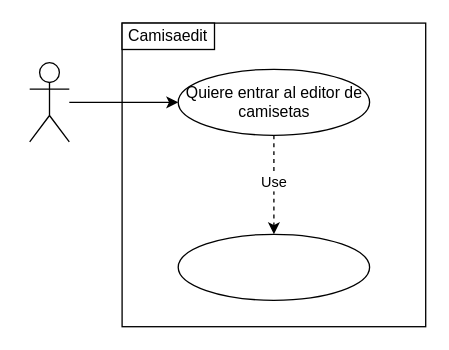
Some shapes in this 449 by 350 pixel diagram are drawn without their labels. The shapes that lost their labels are listed below. From the top down, each one's box as (x1, y1, x2, y2) in pixels, then its label:
(28, 61, 69, 142): Usuario
(177, 233, 370, 300): Inicia sesión en la web
